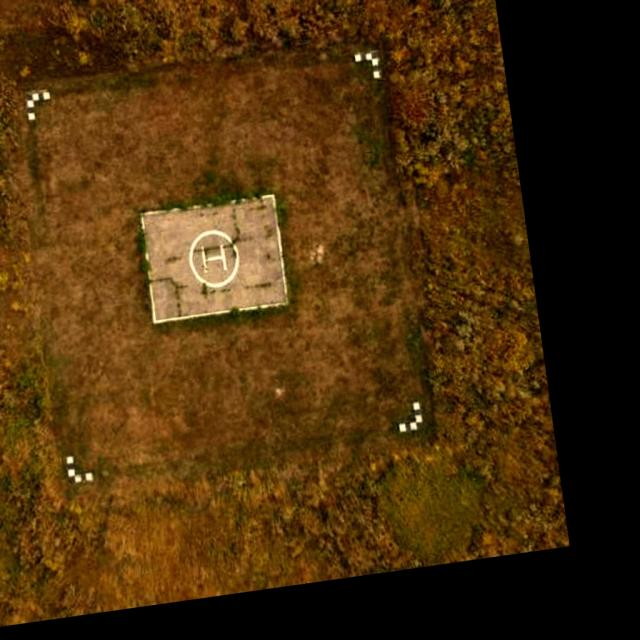helipad: (185, 227, 241, 290)
